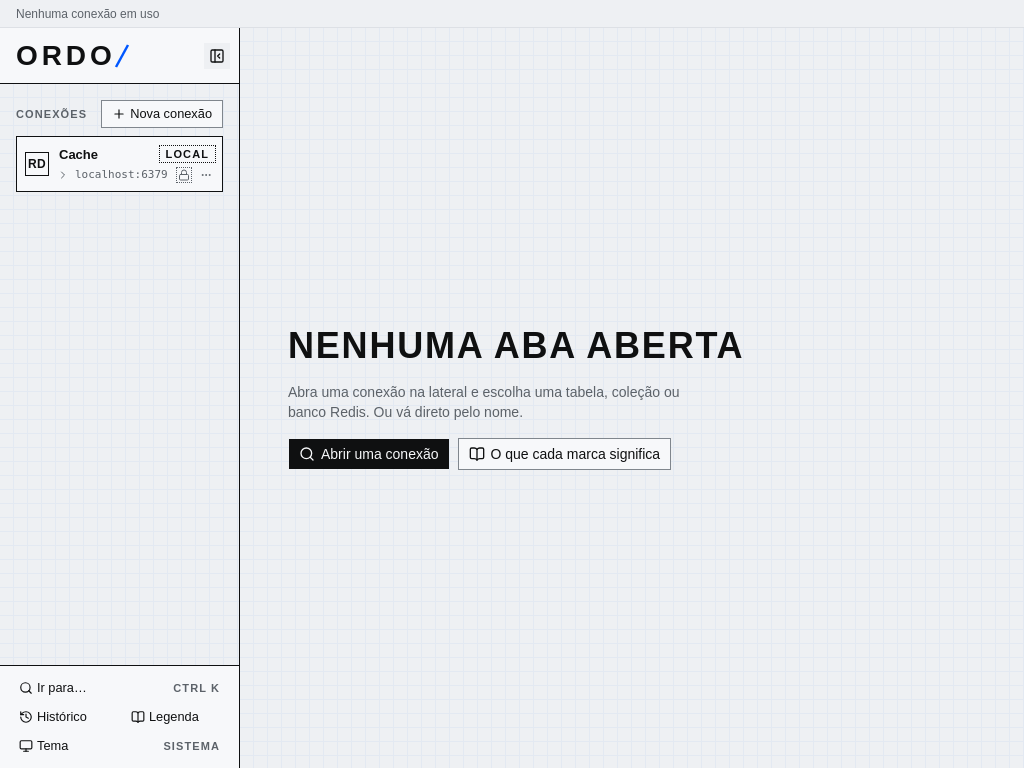
Test: read-only connections subscribe but cannot publish
The width and height of the screenshot is (1024, 768).
Click the list item "RD Cache Local localhost:6379" at (120, 164), box [17, 137, 222, 191]
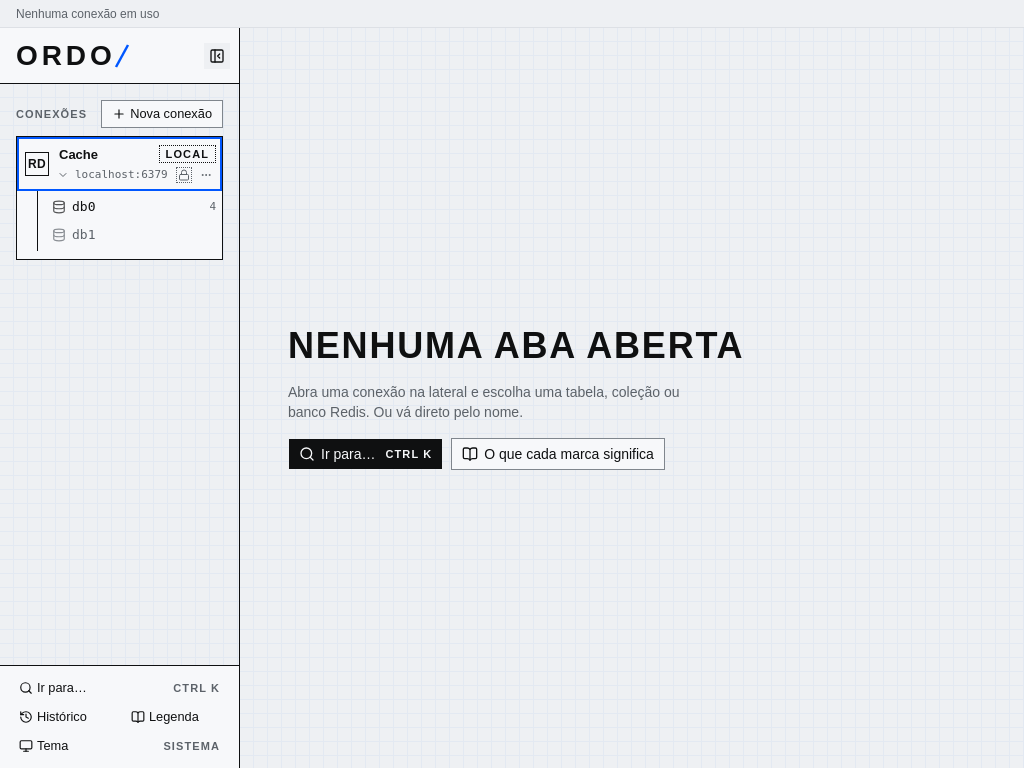
Click the list item "db0 4" at (134, 207), box [46, 193, 222, 221]
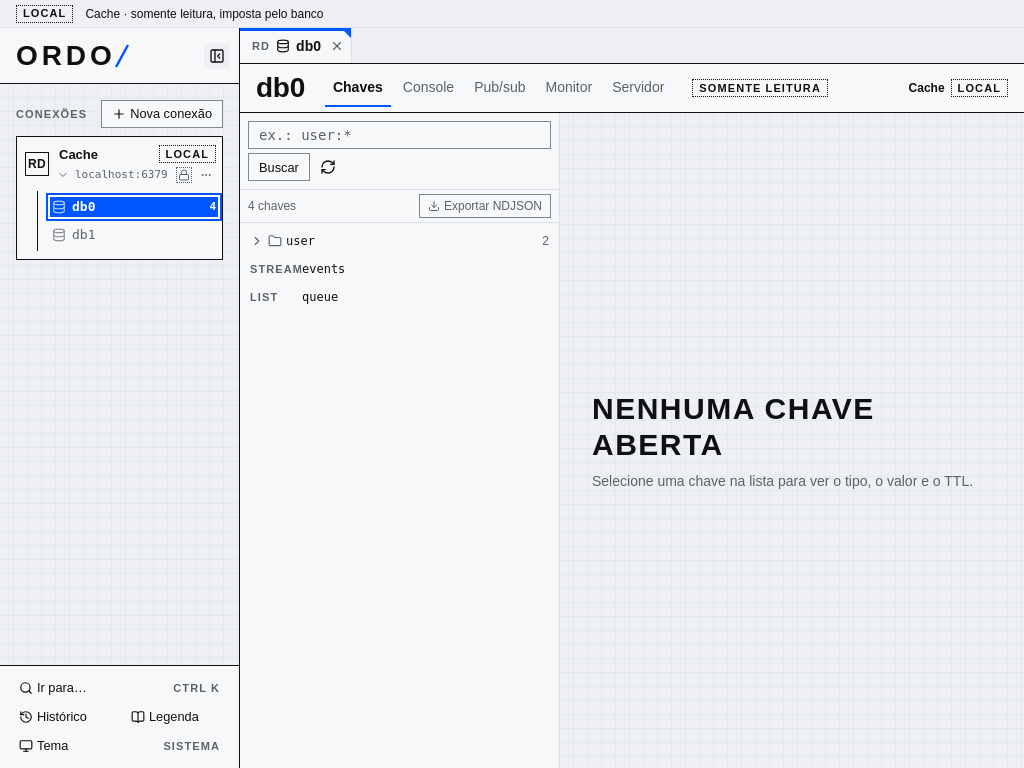
Click the tab "Pub/sub" at (500, 88), box [466, 69, 534, 107]
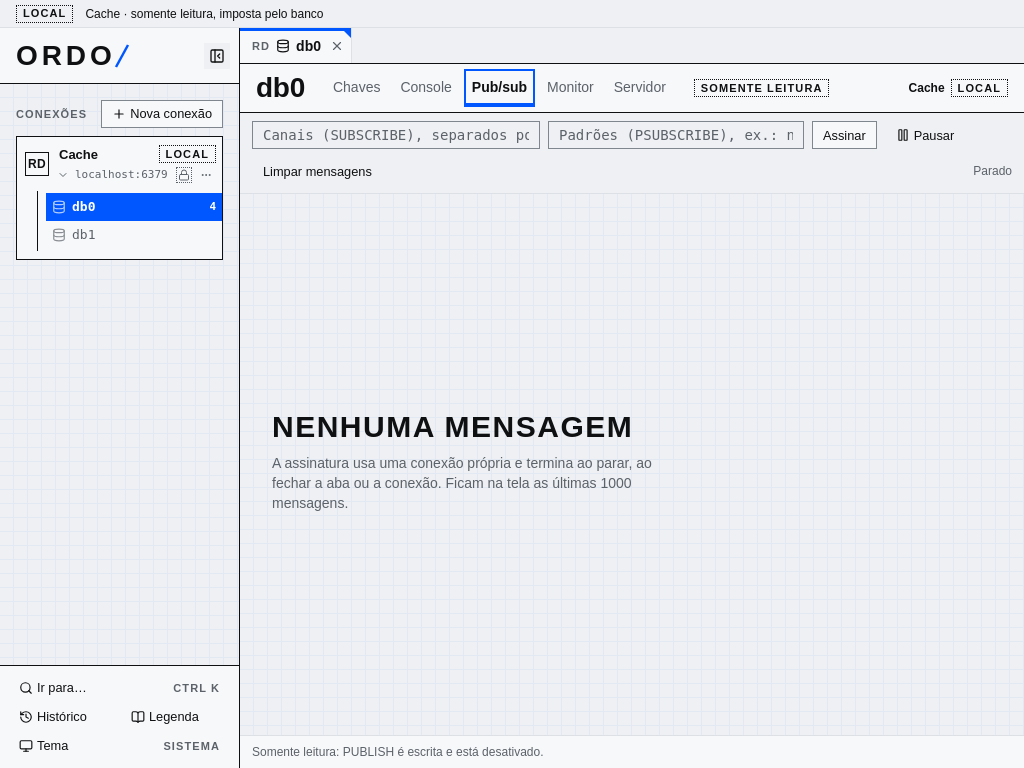
Expected: the button "Assinar" is enabled, [812, 121, 877, 149]
Expected: the text "Somente leitura: PUBLISH é escrita e está desativado." is shown, [252, 744, 544, 760]
